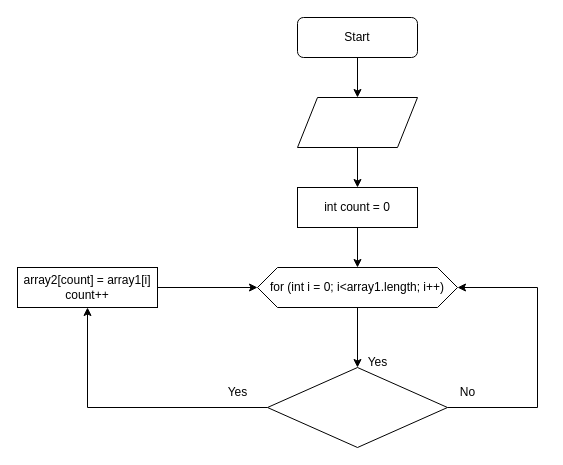
This 563x465 diagram has some shape labels left out. The shapes that lost their labels are listed below. From the top down, each one's centre as x and y in pixels, then its label:
At (x=357, y=122): "string[] array1 string[] array2".
At (x=357, y=407): "if (array1[i].length <=3)".
